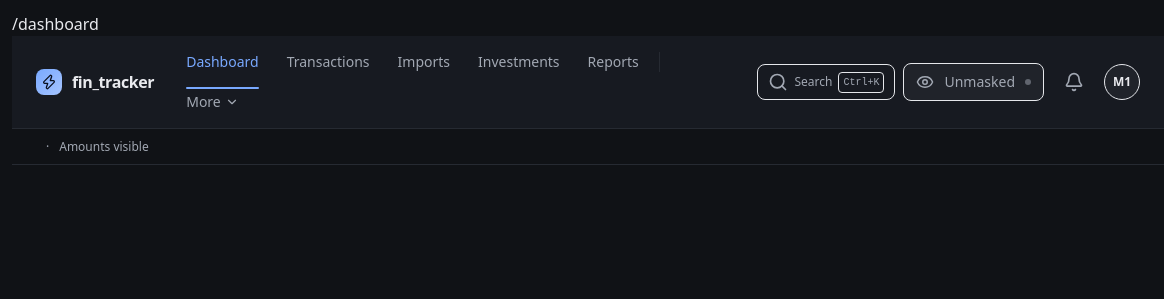
Test case: M100 account menu (docs/47 §1.1) › carries the session controls the rail foot used to hold
What coordinates should you click on to do the following:
click the button with test id "account-menu-toggle"
I would click on:
 (1122, 82)
Its box is 1104,64 -> 1140,100.
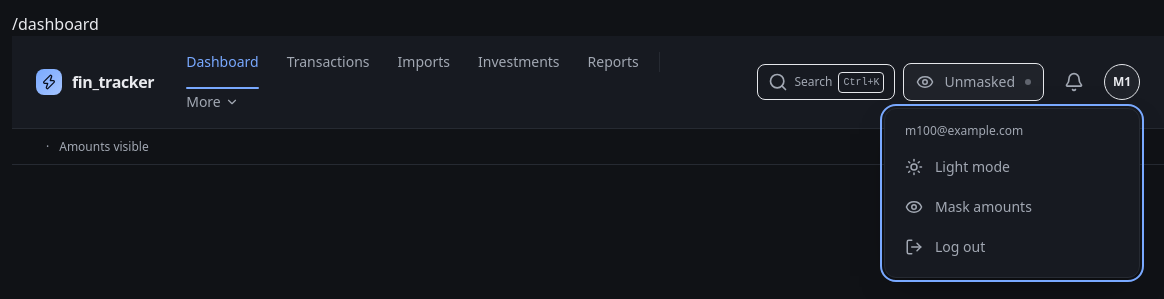
Now the button "Light mode" is shown, box 893,145 -> 1131,189
Now the button with test id "mask-toggle-row" is shown, box 893,189 -> 1131,225
Now the button "Log out" is shown, box 893,225 -> 1131,269
